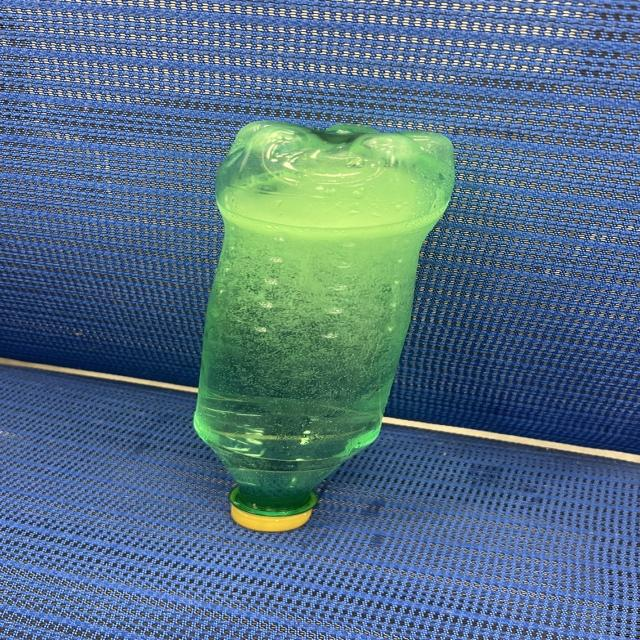high: (194, 121, 454, 531)
